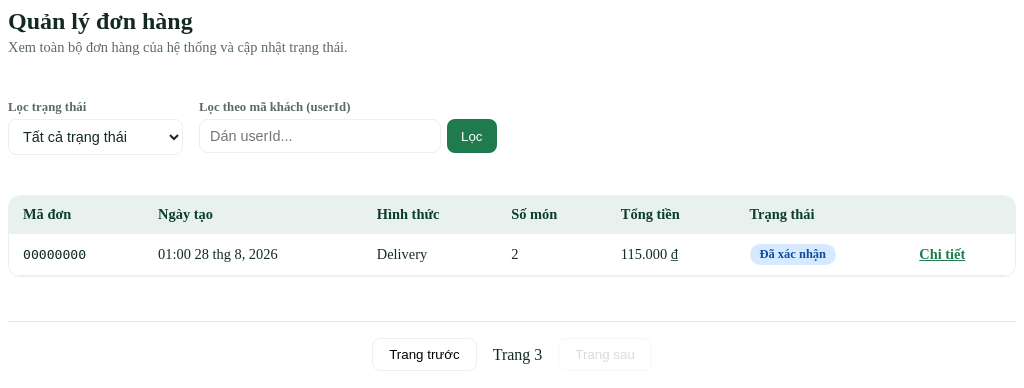
Test case: AdminOrdersPage › filters by status and resets to page 1
Select "Đã xác nhận" in the dropdown labelled "Lọc trạng thái": (96, 137) [8,119,183,155]
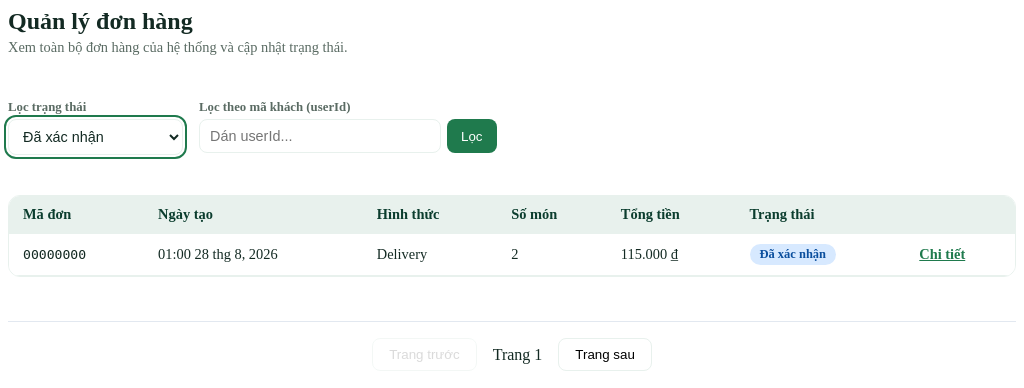
Now the text "Trang 1" is shown, box [493,346,542,364]
